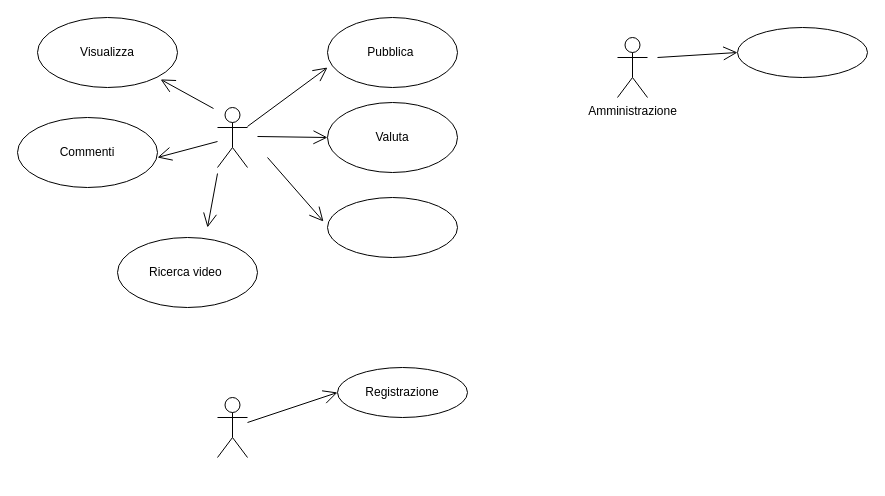
This 885x496 diagram has some shape labels left out. The shapes that lost their labels are listed below. From the top down, each one's centre as x and y in pixels, then its label:
the point at 802,52: Configura
the point at 232,137: Utente Registrato
the point at 392,227: Playlist
the point at 232,427: Utente non registrato
